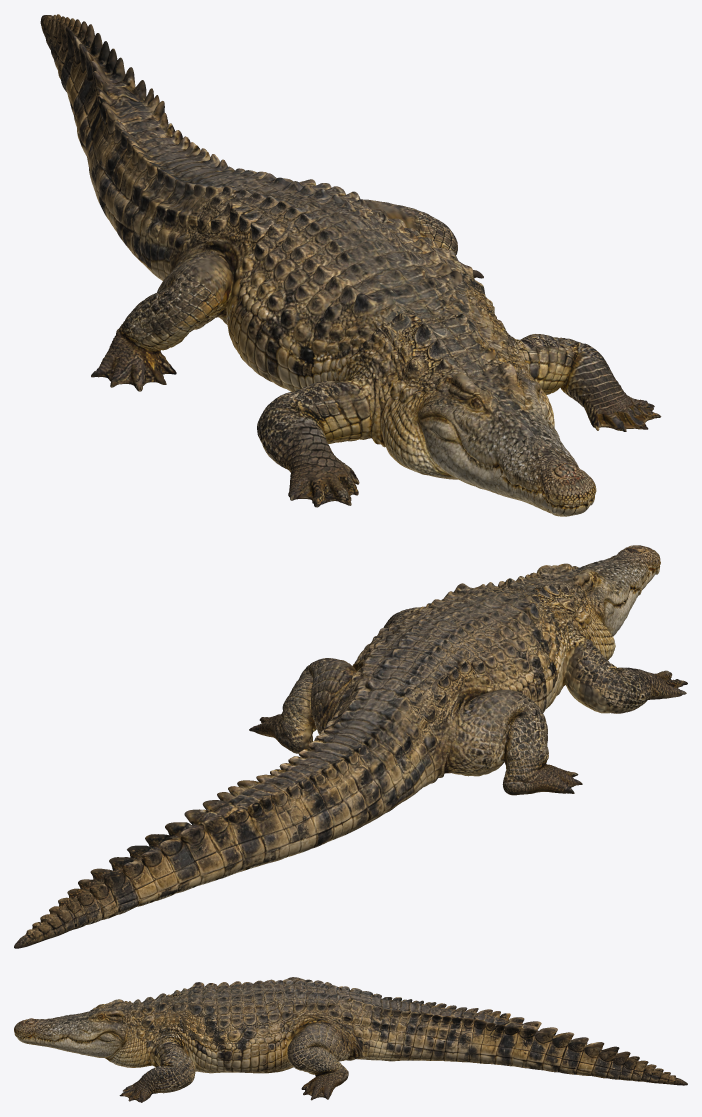
Rendered from crocodile.glb.
The picture shows the model from 3 angles, top to bottom: view 1: azimuth 30°, elevation 25°; view 2: azimuth 150°, elevation 25°; view 3: azimuth 270°, elevation 25°; orthographic projection. The views are drawn at different scales.
Visible parts, largest first — view 1: crocodile; view 2: crocodile; view 3: crocodile.
Part boxes in pixels (<box>): crocodile: <box>40,14,661,516</box>; crocodile: <box>14,545,687,948</box>; crocodile: <box>14,977,687,1102</box>.
Size of the model in its own units: 1.53 by 0.5378 by 4.5.
1 material, 1 textured.
